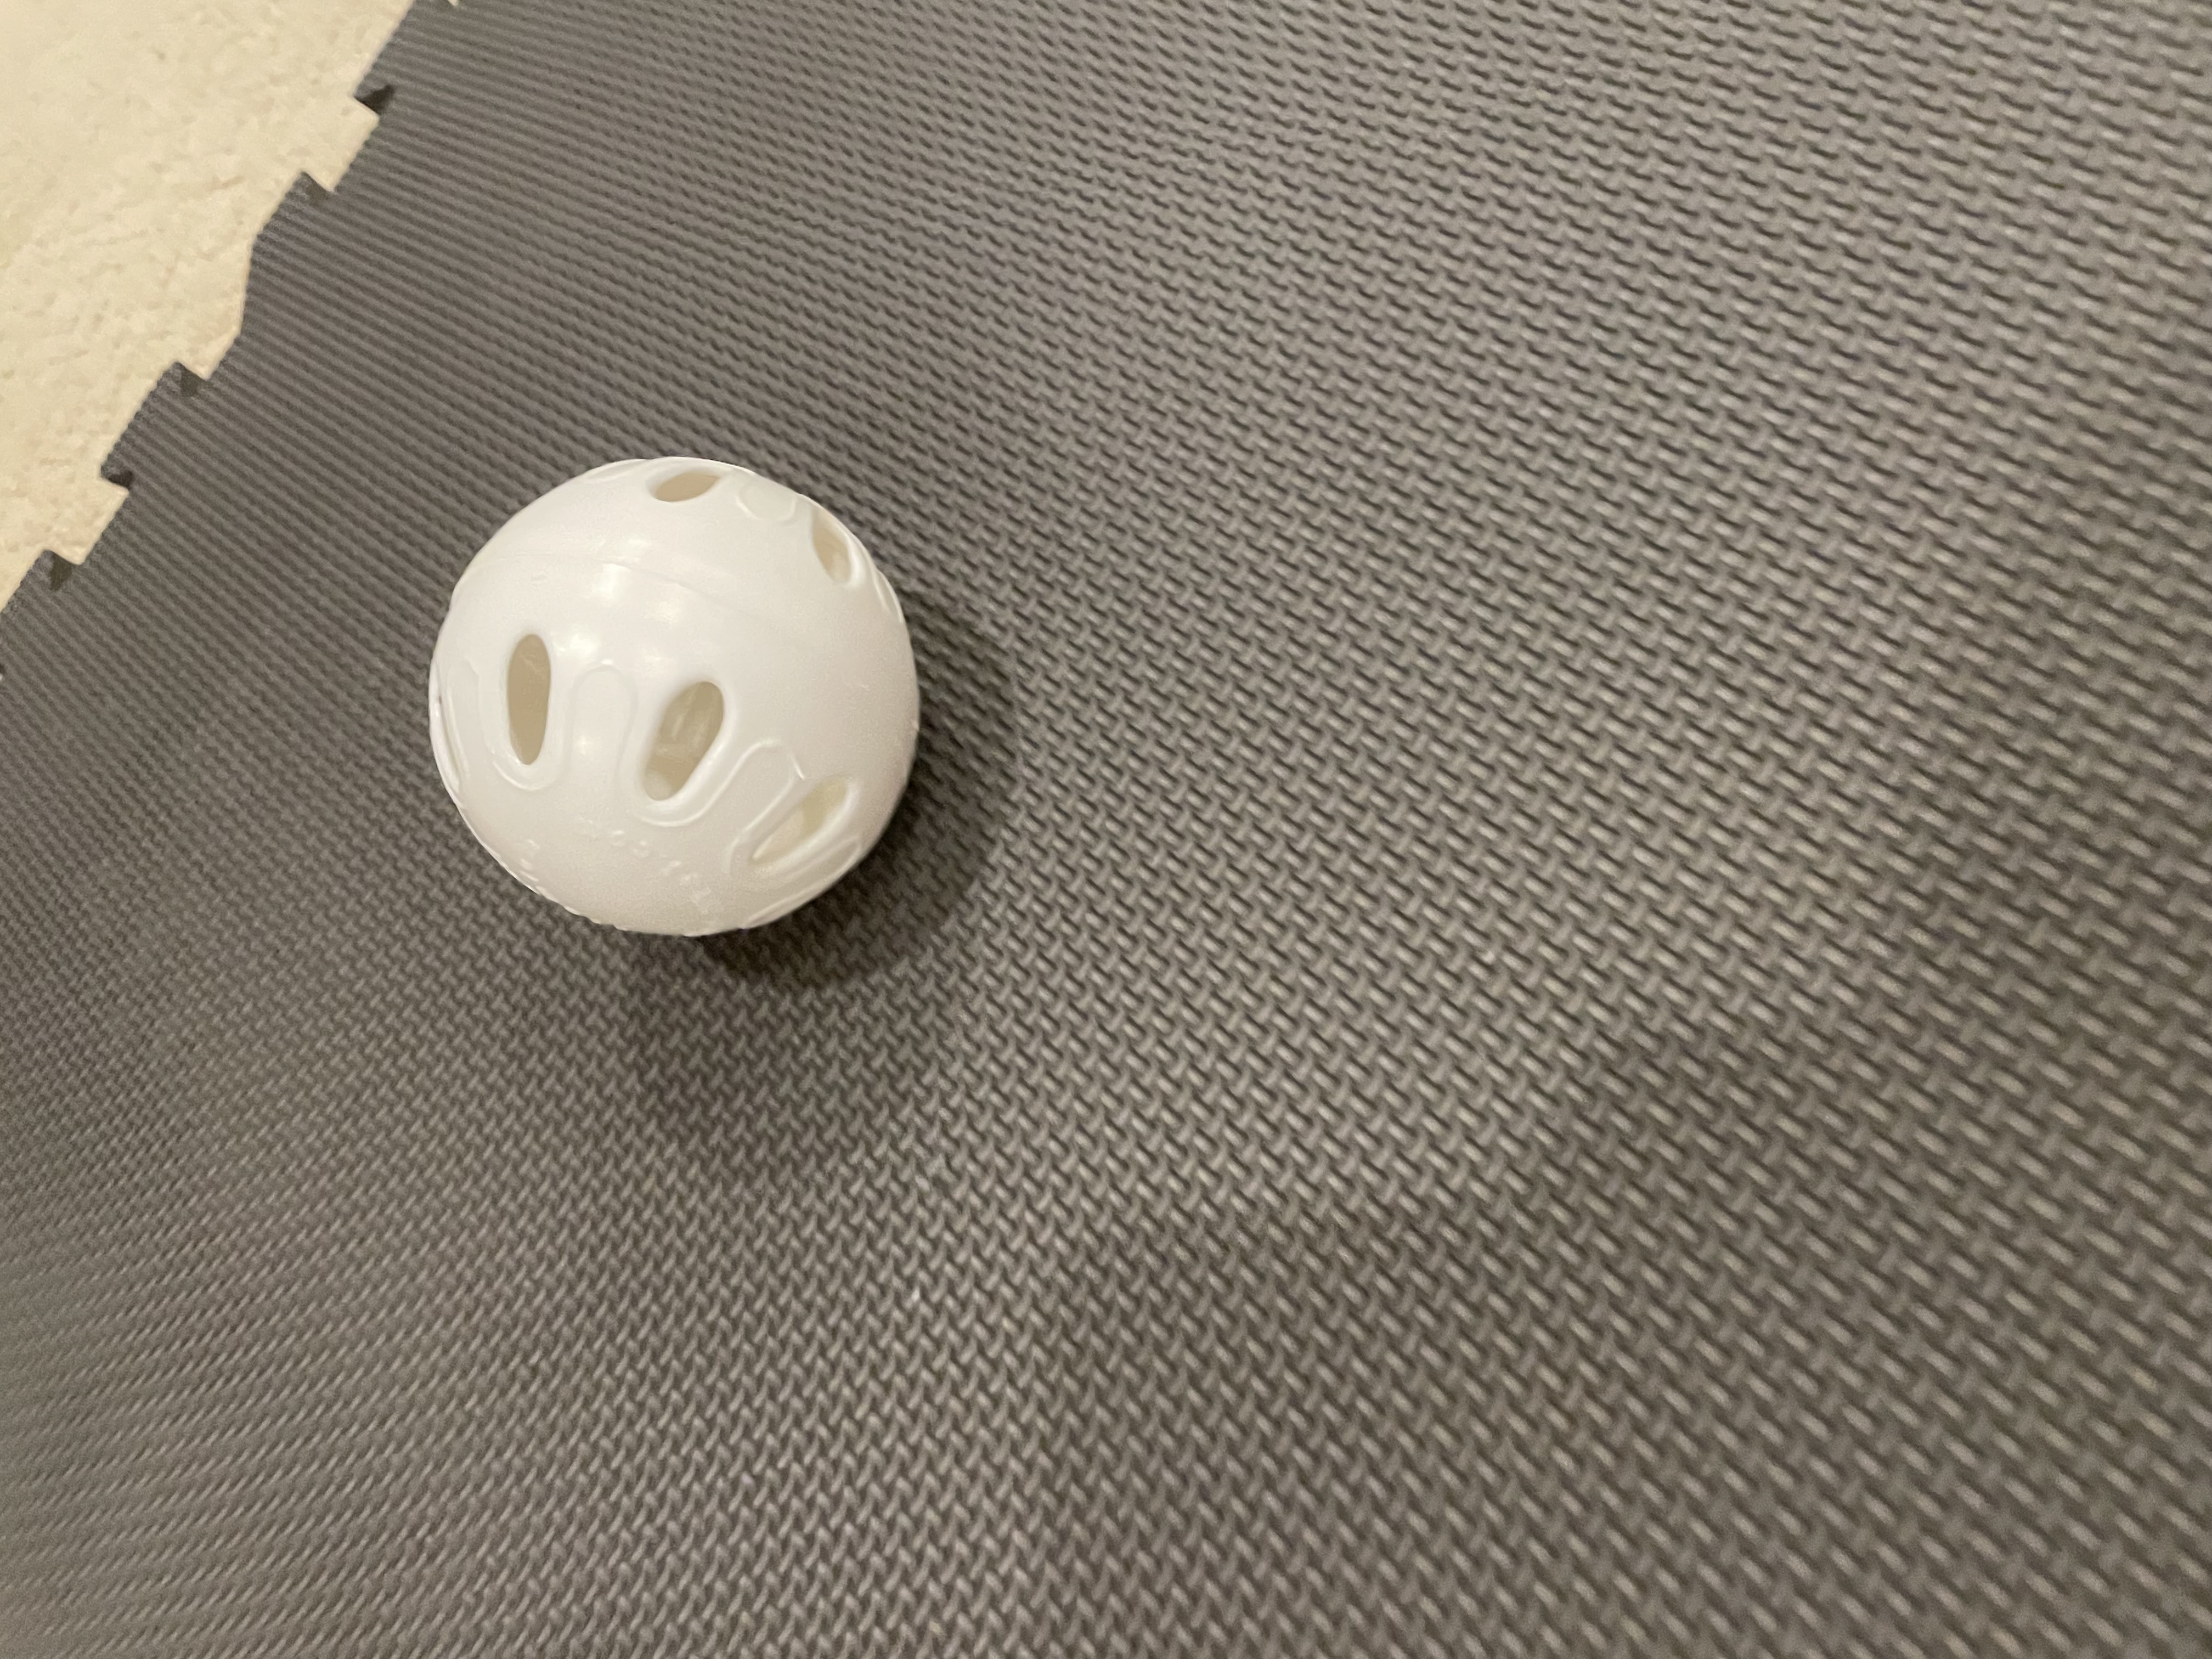ball: (374, 394, 961, 983)
